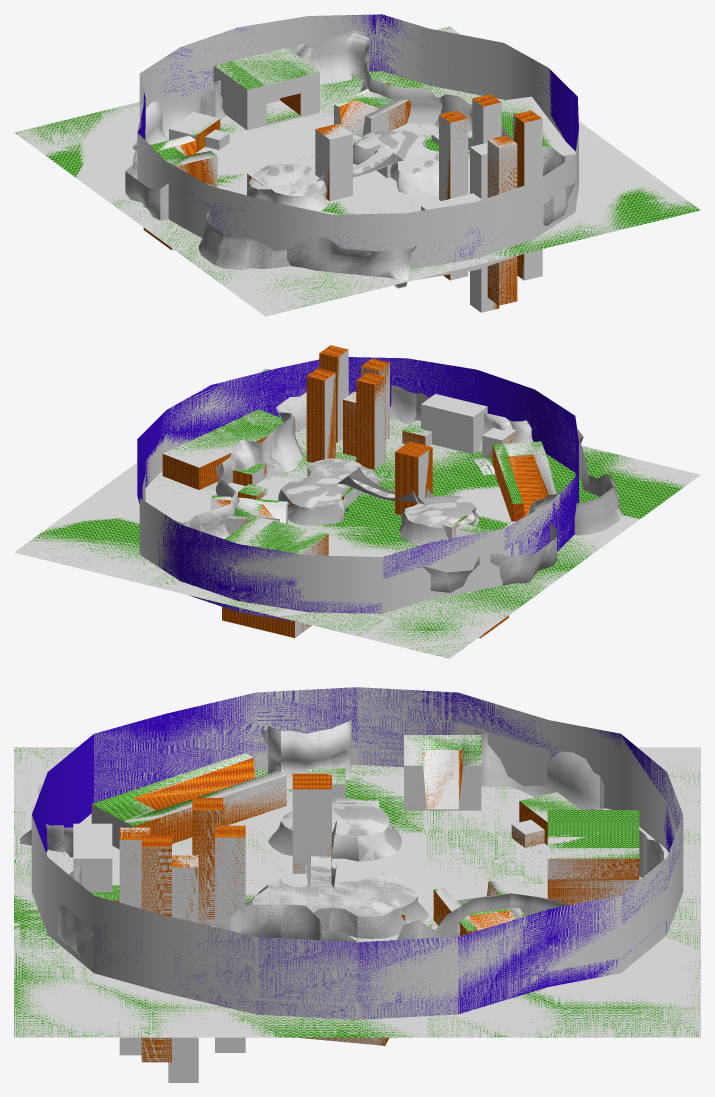
The model's file is TESTMAPWTEXTURES.fbx.
3 renders of one model, top to bottom at view 1: azimuth 30°, elevation 25°; view 2: azimuth 150°, elevation 25°; view 3: azimuth 270°, elevation 25°, orthographic. The views are drawn at different scales.
Visible parts, largest first — view 1: colision, pPlane1, polySurface1, pCylinder1, pCube8, pCube17, pCube15, pCube23, pCube16, pCube9; view 2: colision, pCylinder1, pPlane1, polySurface1, pCube9, pCube8, pCube21, pCube19, pCube20, pCube13, pCube18, pCube16 (+1 smaller); view 3: colision, pCylinder1, pPlane1, polySurface1, pCube8, pCube21, pCube16, pCube20, pCube15, pCube23, pCube6, pCube13 (+1 smaller).
Part boxes in pixels (x1,y1,x2,y2): colision: (14, 14, 697, 316); pPlane1: (15, 27, 700, 308); polySurface1: (125, 33, 575, 287); pCylinder1: (137, 14, 578, 261); pCube8: (214, 48, 319, 123); pCube17: (487, 135, 517, 305); pCube15: (143, 136, 217, 249); pCube23: (334, 81, 410, 131); pCube16: (513, 110, 541, 278); pCube9: (501, 100, 554, 158); colision: (14, 347, 700, 658); pCylinder1: (137, 357, 578, 621); pPlane1: (20, 368, 686, 658); polySurface1: (175, 385, 622, 592); pCube9: (162, 409, 295, 489); pCube8: (222, 516, 328, 637); pCube21: (492, 441, 558, 521); pCube19: (306, 368, 335, 462); pCube20: (356, 372, 385, 469); pCube13: (395, 441, 432, 514); pCube18: (343, 392, 356, 456); pCube16: (319, 345, 348, 442); colision: (14, 687, 700, 1082); pCylinder1: (32, 687, 682, 1019); pPlane1: (14, 747, 700, 1037); polySurface1: (20, 715, 673, 955); pCube8: (547, 810, 639, 905); pCube21: (92, 753, 286, 843); pCube16: (141, 835, 171, 1062); pCube20: (192, 798, 222, 925); pCube15: (407, 735, 481, 809); pCube23: (433, 881, 525, 935); pCube6: (519, 793, 580, 845); pCube13: (292, 773, 331, 873).
Bounding box in the file's own units: 861 × 357 × 861.
4 materials, 2 textured.
